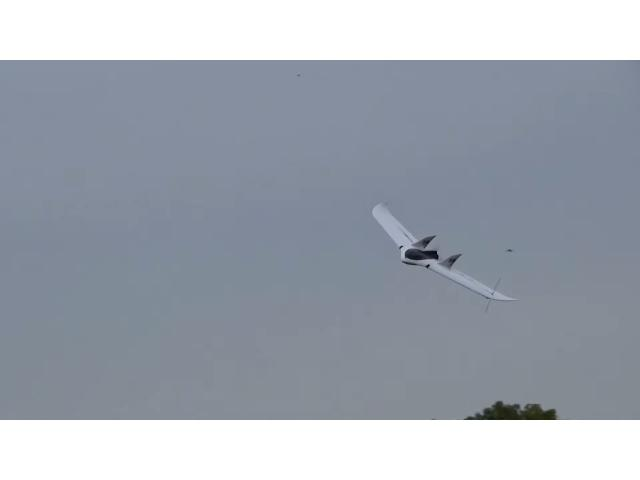Anti-Drone: (372, 202, 518, 300)
